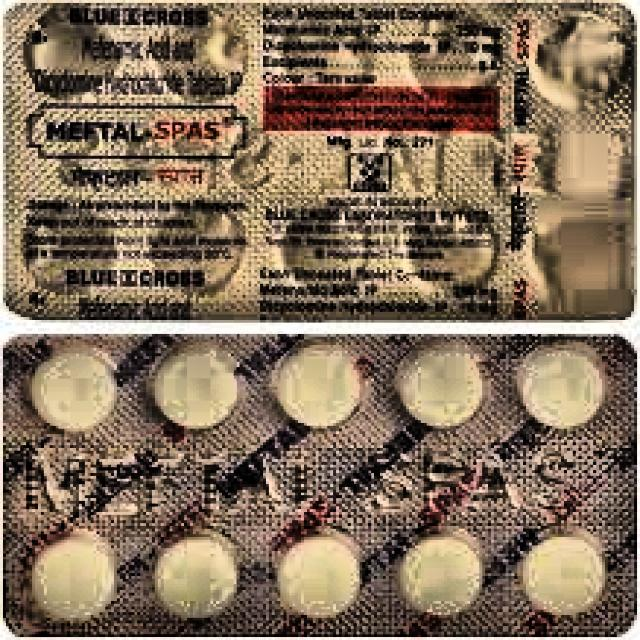Meftal: (14, 392, 609, 579), (17, 80, 249, 186)
